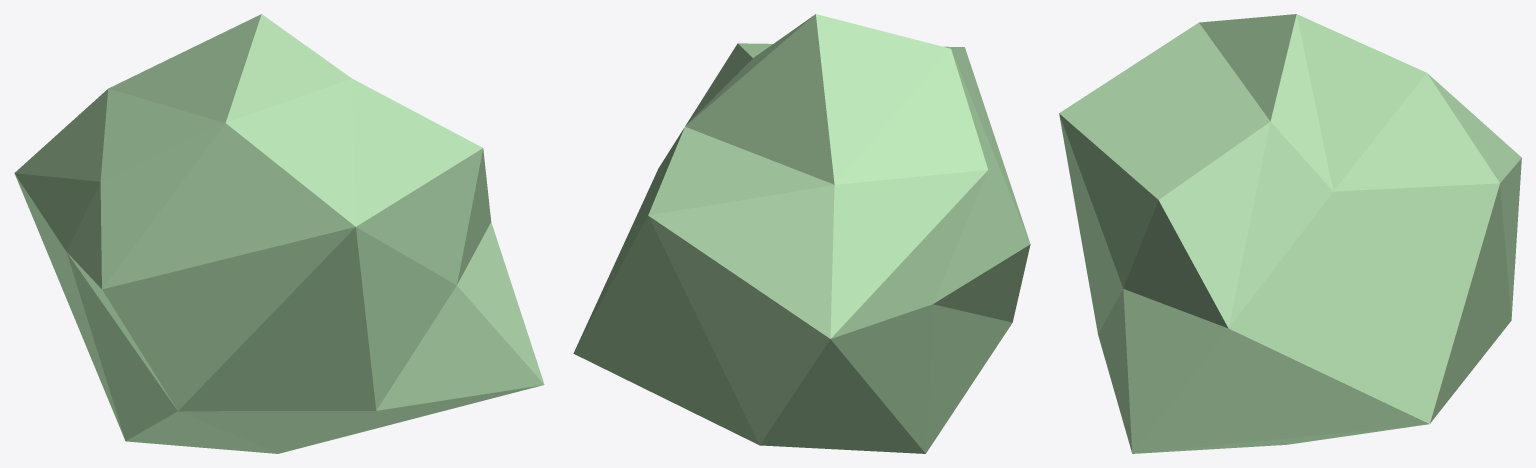
File: item_uranium_chunk_l.glb
3 views of the same model, side by side, from view 1: azimuth 30°, elevation 25°; view 2: azimuth 150°, elevation 25°; view 3: azimuth 270°, elevation 25° (orthographic). The views are drawn at different scales.
Visible parts, largest first — view 1: UraniumBlob; view 2: UraniumBlob; view 3: UraniumBlob.
Boxes of the visible parts, x1,y1,x2,y2 form: UraniumBlob: [14, 14, 544, 453]; UraniumBlob: [573, 14, 1030, 453]; UraniumBlob: [1059, 14, 1521, 453].
Bounding box in the file's own units: 0.3943 × 0.4277 × 0.4216.
